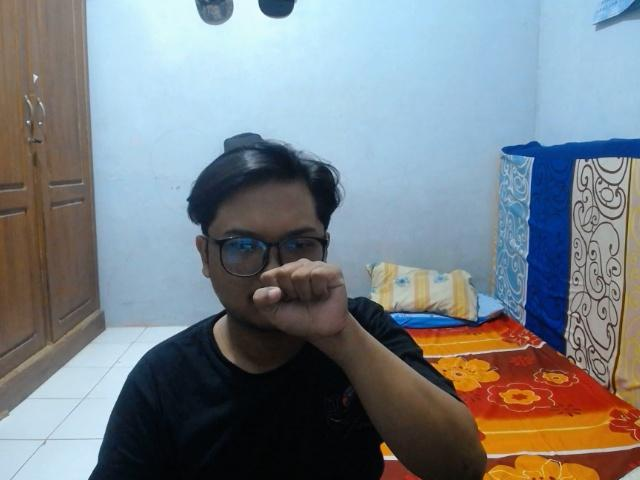Grab: (243, 254, 363, 353)
